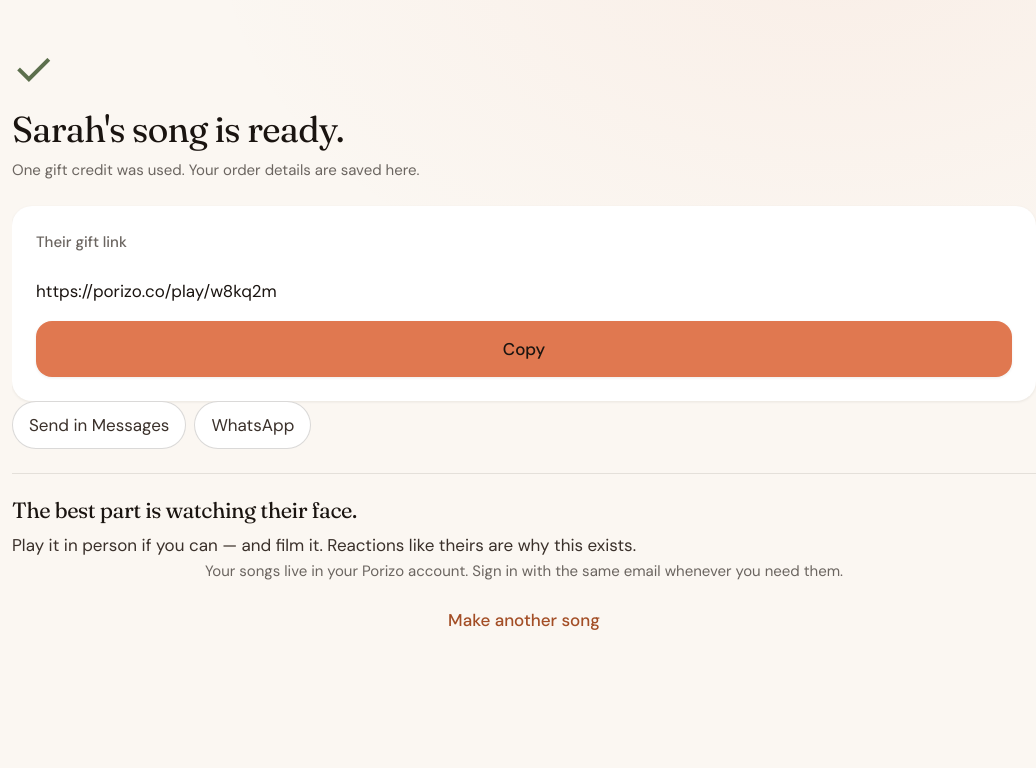
Test: paid-order lifecycle › builds encoded share intents and announces copy feedback
Click the button "Copy": (524, 349) left=36, top=321, right=1012, bottom=377
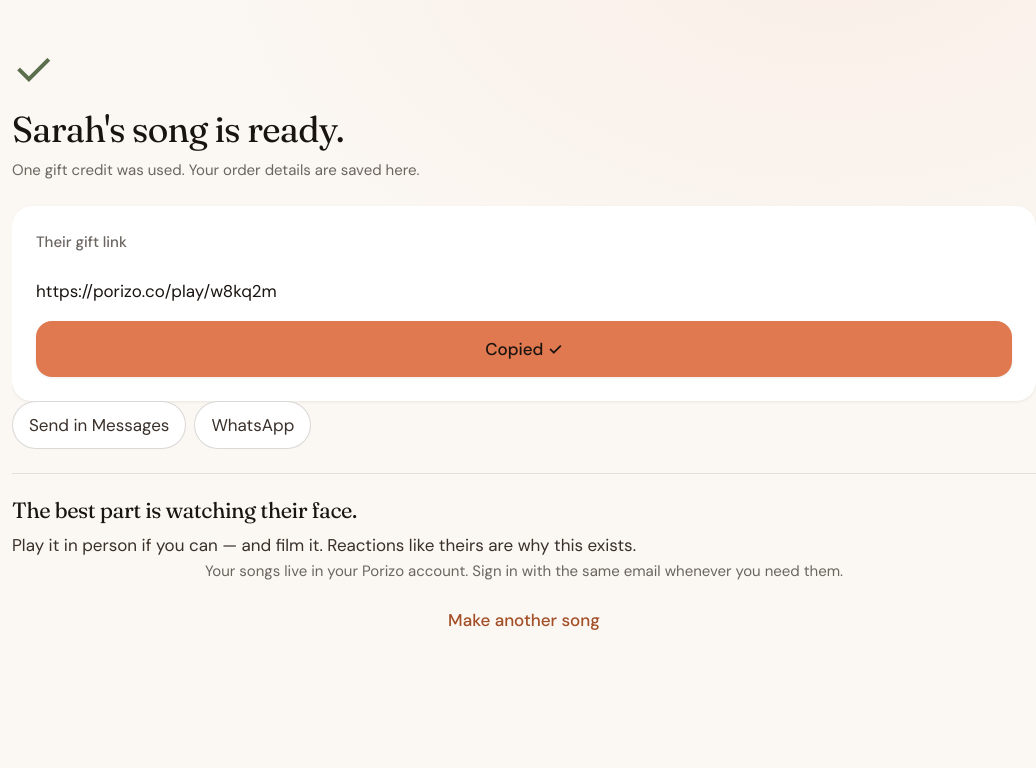
Expected: the button "Copied ✓" is shown, left=36, top=321, right=1012, bottom=377
